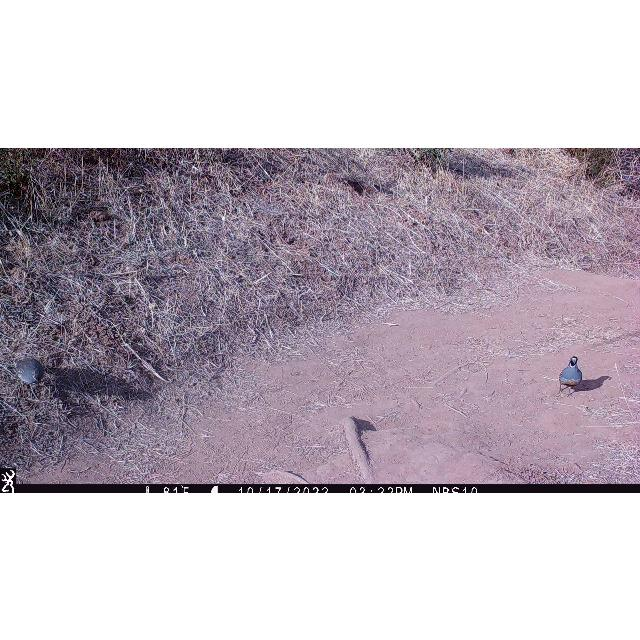animals: (12, 352, 46, 400), (557, 354, 585, 398)
